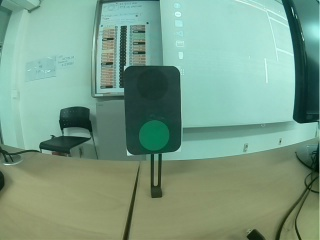green_light: (129, 69, 180, 154)
